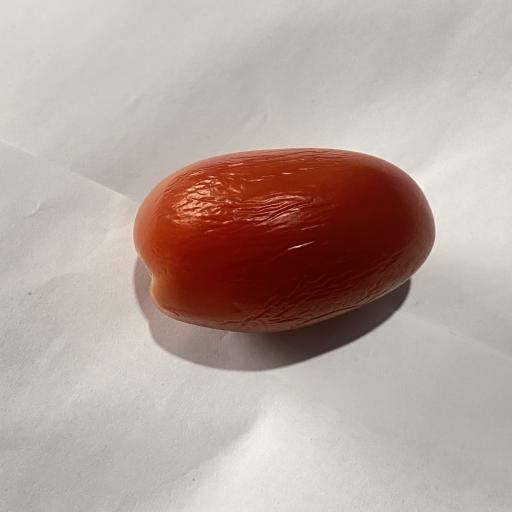spoiled: (134, 148, 435, 332), (225, 230, 238, 232)
